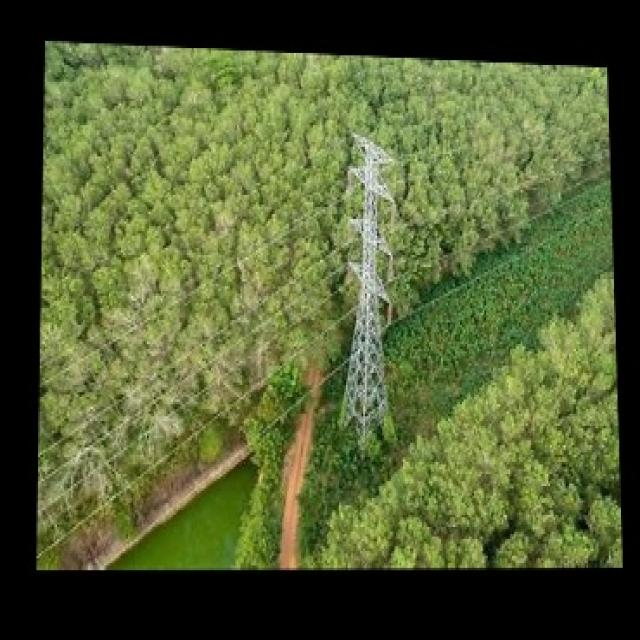utility poles: (334, 127, 414, 458)
